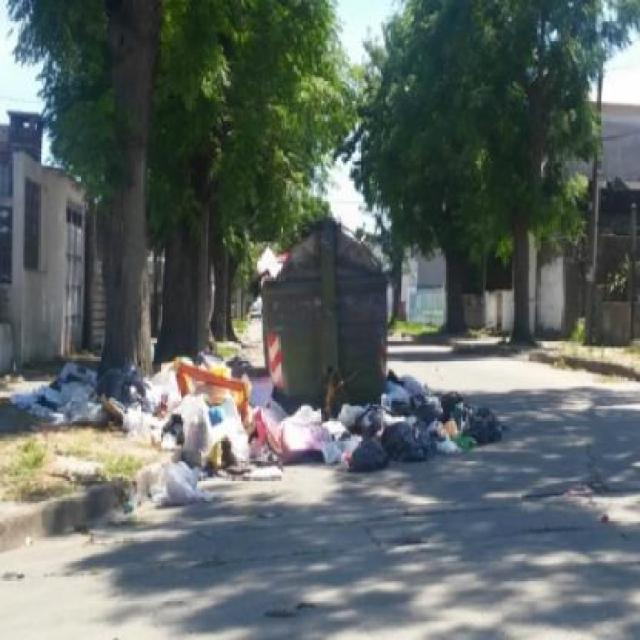garbage: (9, 331, 264, 489), (268, 375, 502, 483), (257, 241, 274, 286)
